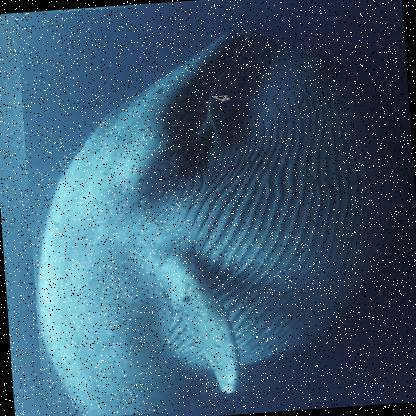blue_whale: (15, 0, 412, 415)
